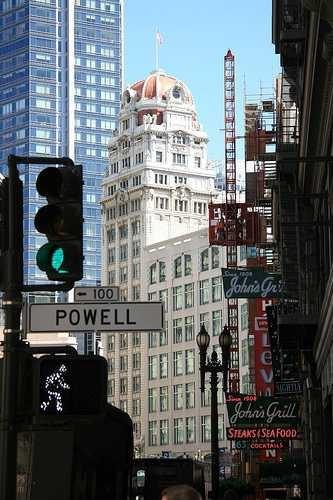green: (35, 163, 87, 279)
